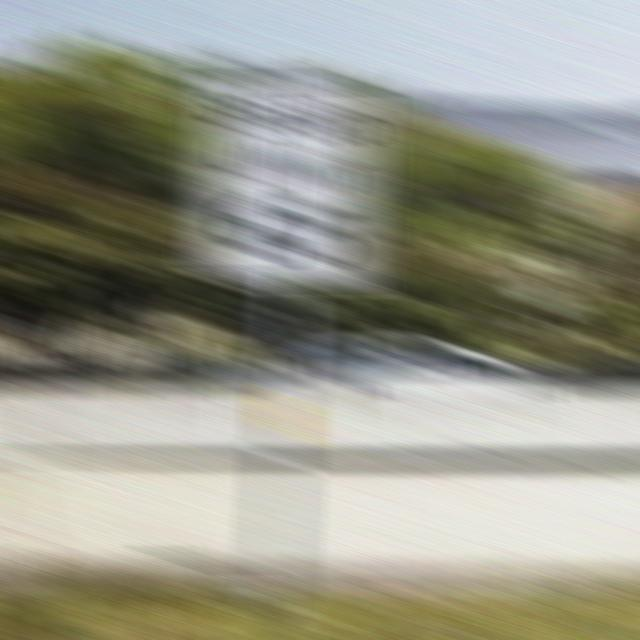speedLimit65: (198, 68, 386, 299)
